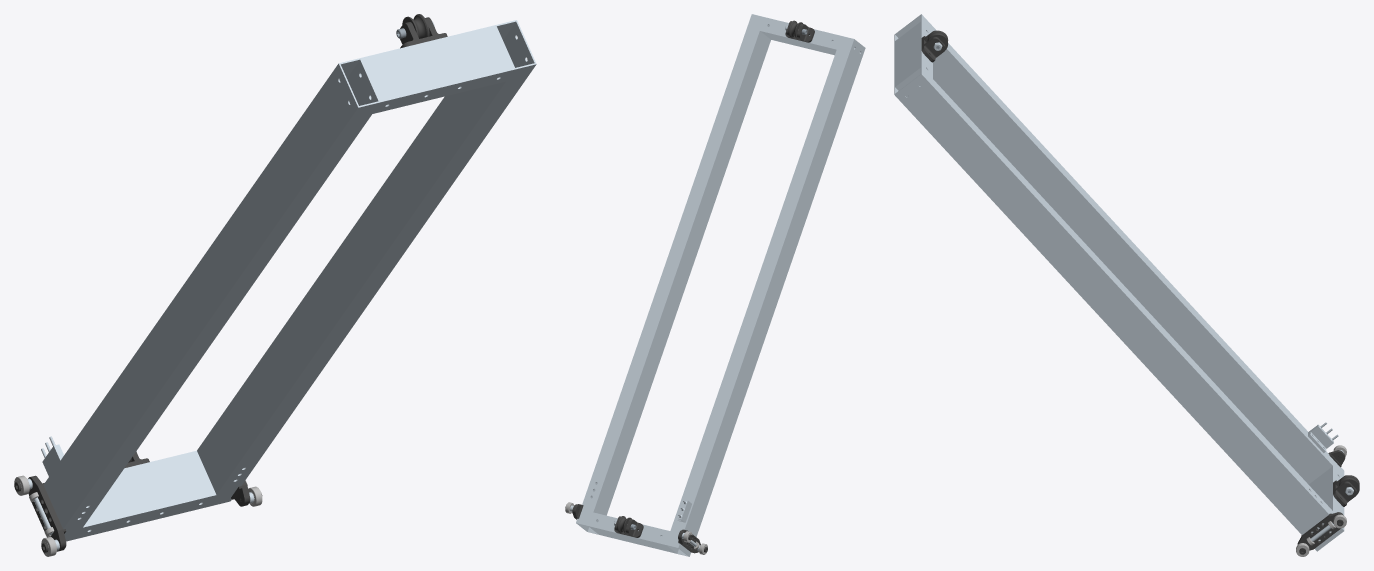
The picture shows the model from 3 angles, left to right: view 1: azimuth 30°, elevation 25°; view 2: azimuth 150°, elevation 25°; view 3: azimuth 270°, elevation 25°; orthographic projection. The views are drawn at different scales.
Parts seen in each view (by area): view 1: Tube 2"x1"x37" (×2), Tube 2"x1"x6" (×2), Sliding Bearing Block Plate - SLIDE-001; view 2: Tube 2"x1"x37" (×2), Tube 2"x1"x6" (×2); view 3: Tube 2"x1"x37" (×2), Tube 2"x1"x6" (×2), Sliding Bearing Block Plate - SLIDE-001.
Part boxes in pixels (bbox=[...]): Tube 2"x1"x37" (×2): bbox=[43, 20, 536, 541]; Tube 2"x1"x6" (×2): bbox=[75, 25, 514, 539]; Sliding Bearing Block Plate - SLIDE-001: bbox=[28, 475, 66, 551]; Tube 2"x1"x37" (×2): bbox=[576, 14, 865, 556]; Tube 2"x1"x6" (×2): bbox=[589, 17, 841, 553]; Tube 2"x1"x37" (×2): bbox=[894, 14, 1344, 551]; Tube 2"x1"x6" (×2): bbox=[894, 21, 1344, 515]; Sliding Bearing Block Plate - SLIDE-001: bbox=[1297, 512, 1343, 550].
Size of the model in its own units: 0.2463 by 0.7703 by 0.6648.
